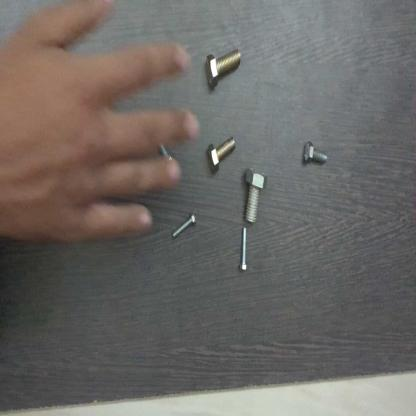Bolts: (204, 39, 242, 91), (206, 127, 242, 180), (240, 163, 269, 228), (302, 139, 330, 176), (171, 210, 200, 242), (238, 224, 249, 274)
